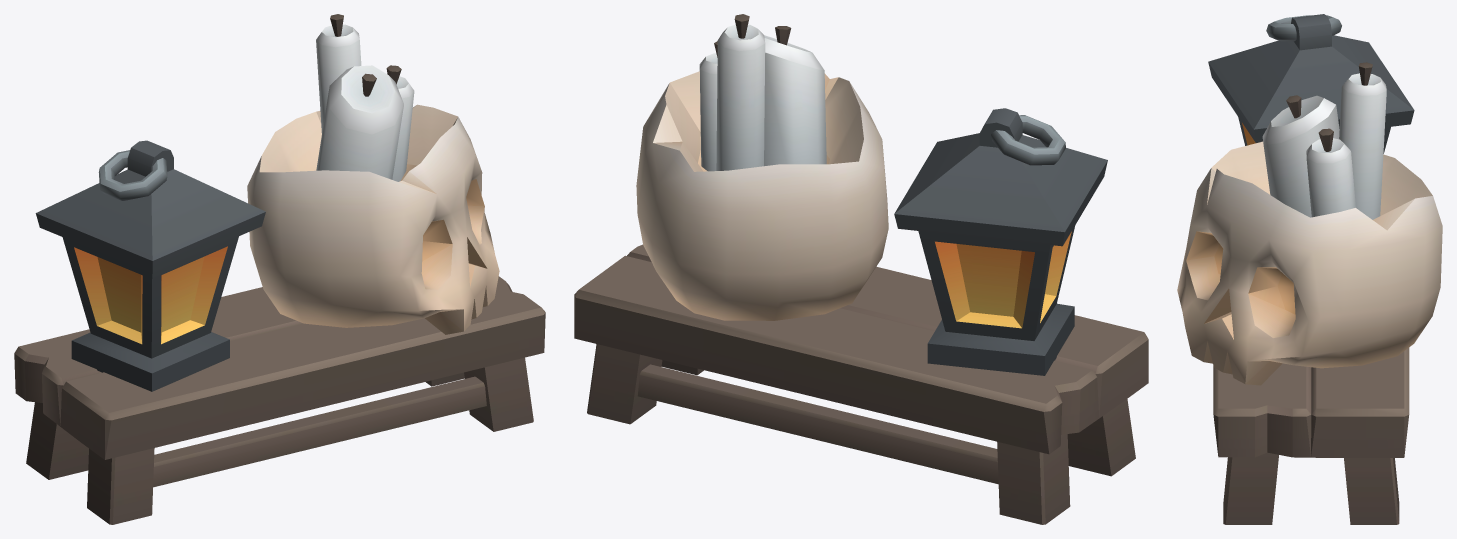
The model's file is bench-decorated.glb.
The picture shows the model from 3 angles, left to right: view 1: azimuth 30°, elevation 25°; view 2: azimuth 150°, elevation 25°; view 3: azimuth 270°, elevation 25°; orthographic projection. The views are drawn at different scales.
Visible parts, largest first — view 1: bench_decorated; view 2: bench_decorated; view 3: bench_decorated.
Boxes of the visible parts, x1,y1,x2,y2 form: bench_decorated: [14, 14, 545, 524]; bench_decorated: [574, 14, 1148, 524]; bench_decorated: [1177, 14, 1442, 524].
Size of the model in its own units: 2 by 1.68 by 1.02.
Materials: 1 (1 with a texture image).
